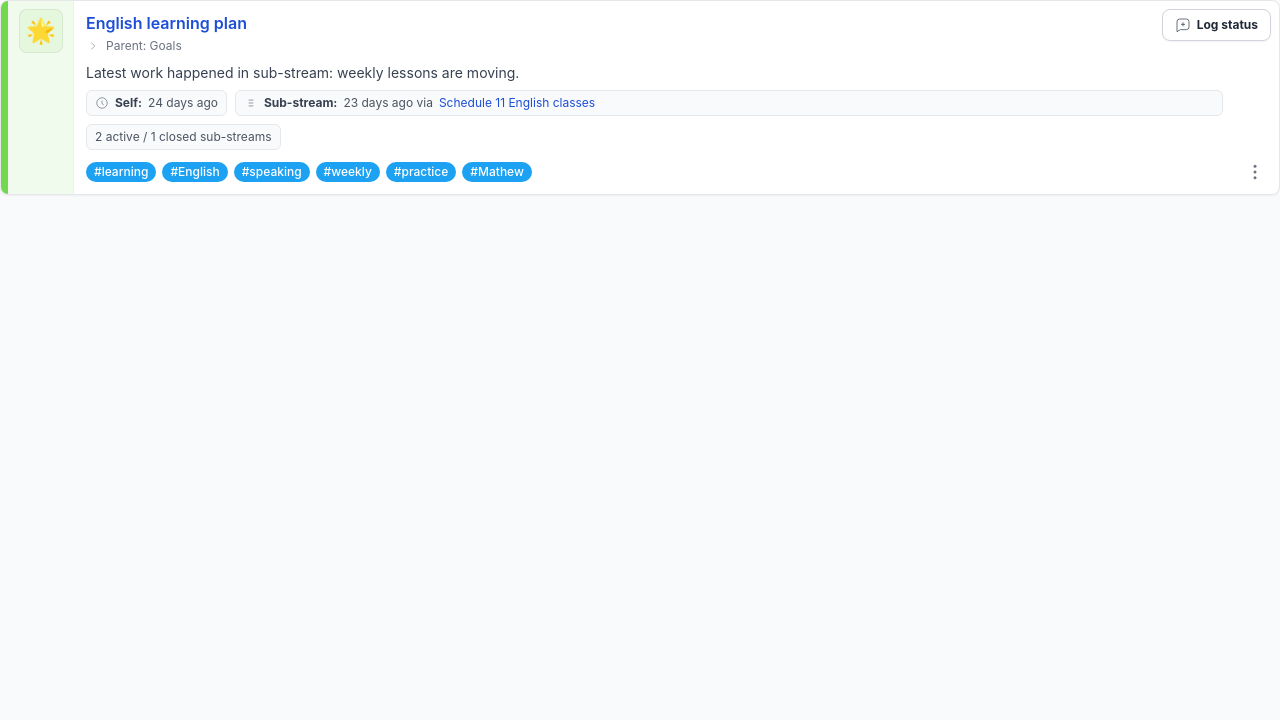
WorkstreamCard tile layout › keeps the edit dialog open with feedback and entered values after an update failure
Click the button named "More".
click(1255, 172)  # box x1=1239 y1=158 x2=1271 y2=186
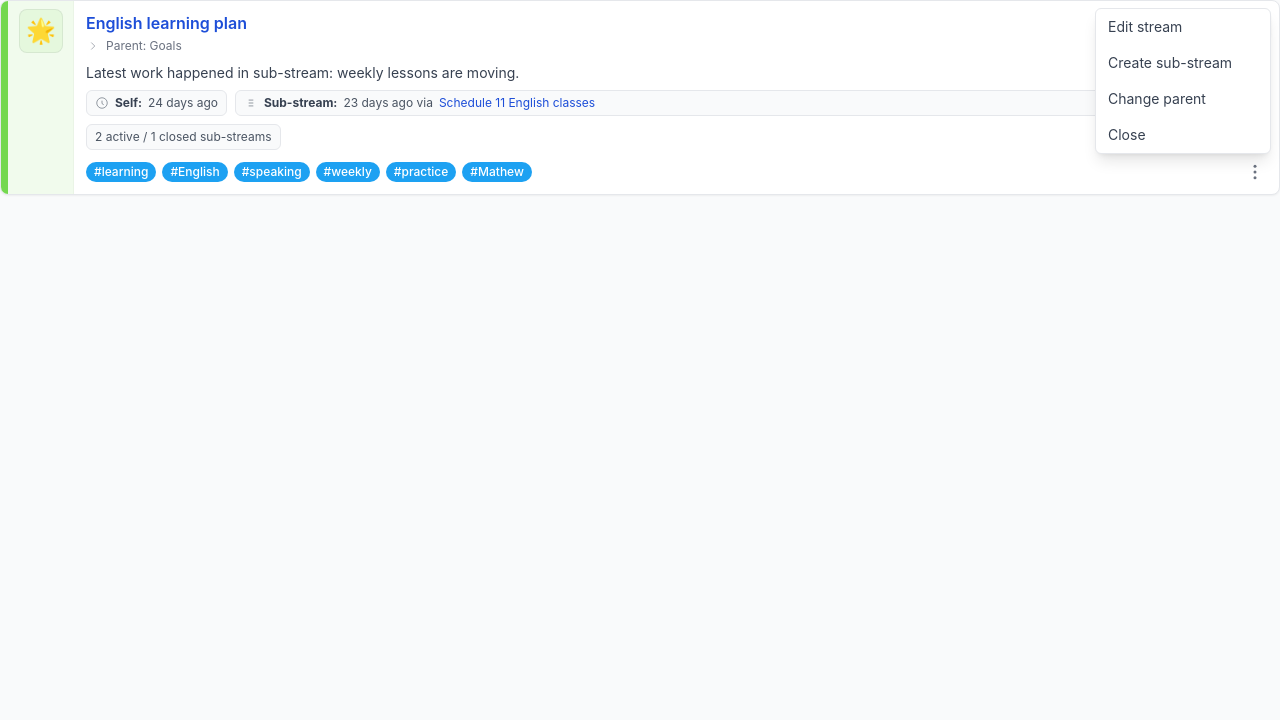
Click the button "Edit stream".
click(1183, 27)  # box x1=1096 y1=9 x2=1270 y2=45
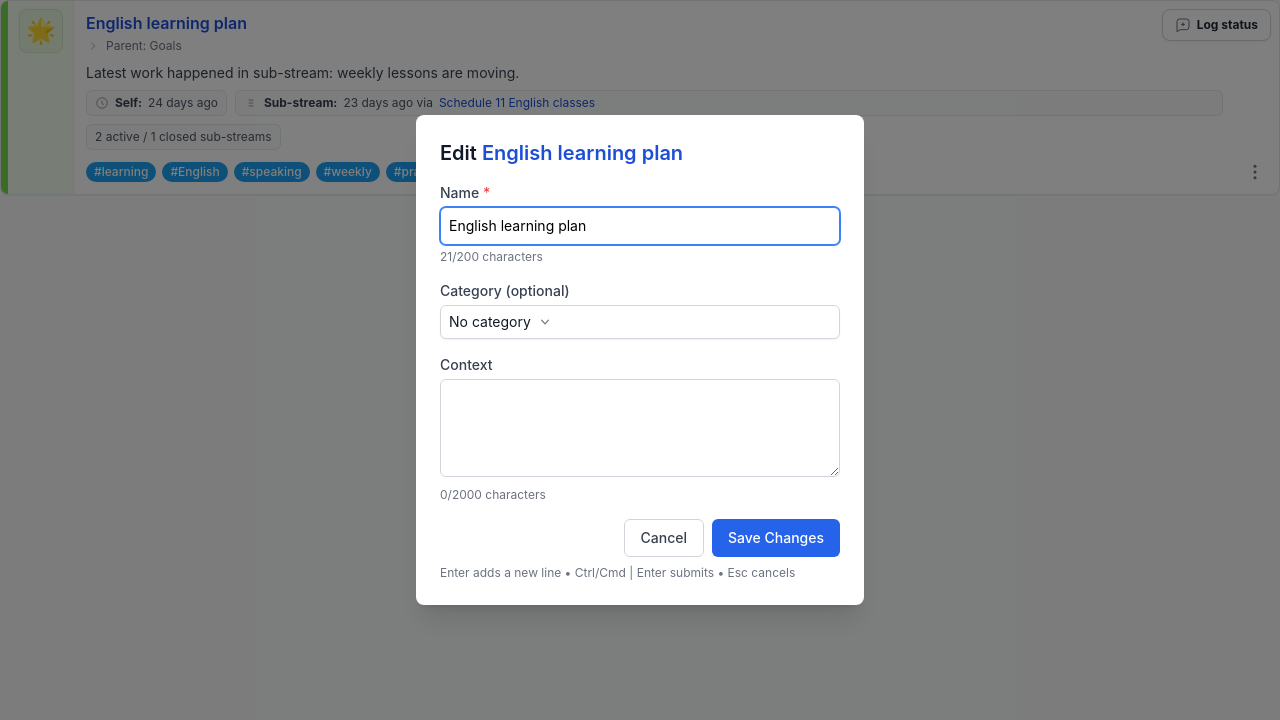
Replace the text in the field labelled "Name *" with "Unsaved corrected name" at (640, 226), box x1=440 y1=207 x2=840 y2=245
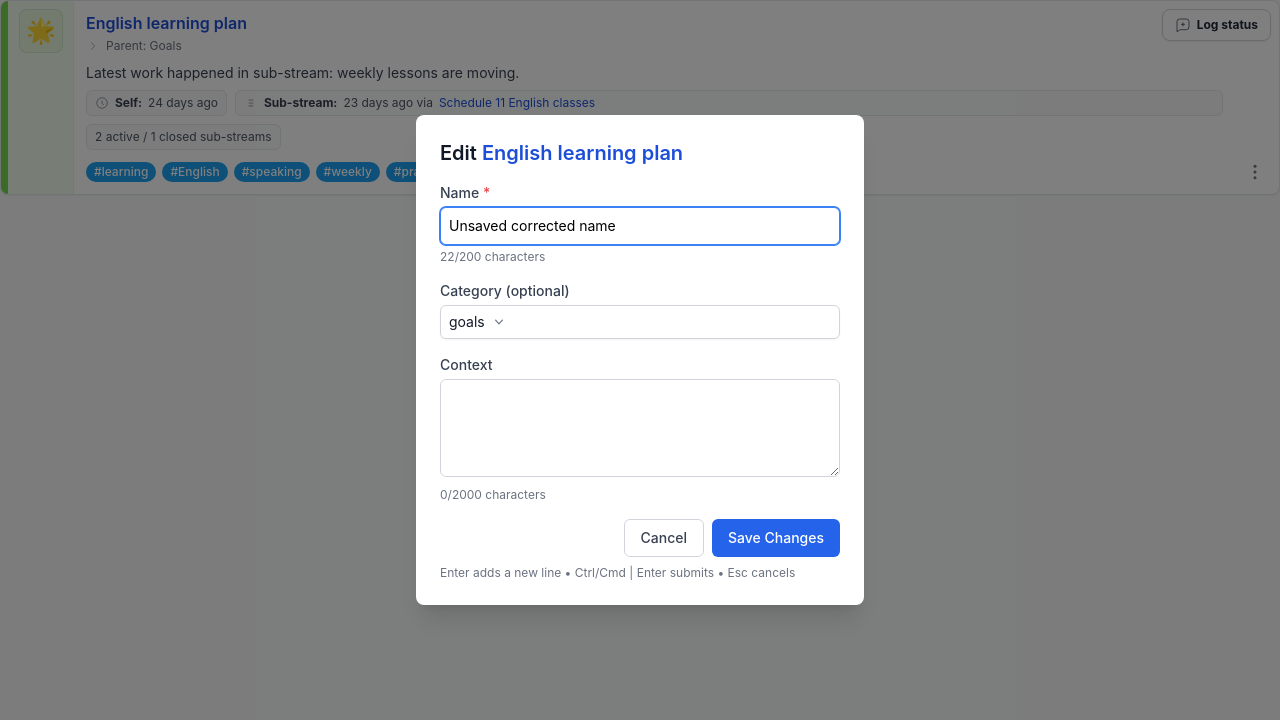
Click the button "Save Changes".
click(776, 538)  # box x1=712 y1=519 x2=840 y2=557
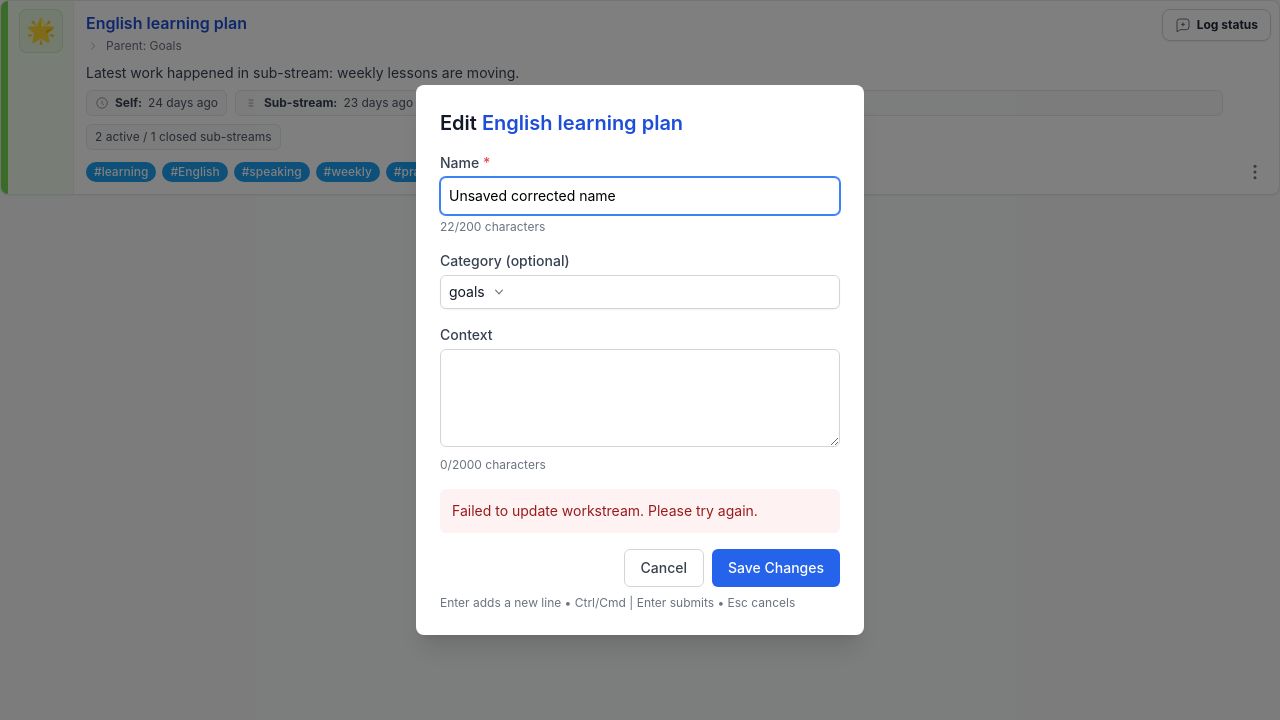
Result: the button "Save Changes" is shown at x1=712 y1=549 x2=840 y2=587
Result: the text "Failed to update workstream. Please try again." is shown at x1=440 y1=489 x2=840 y2=533
